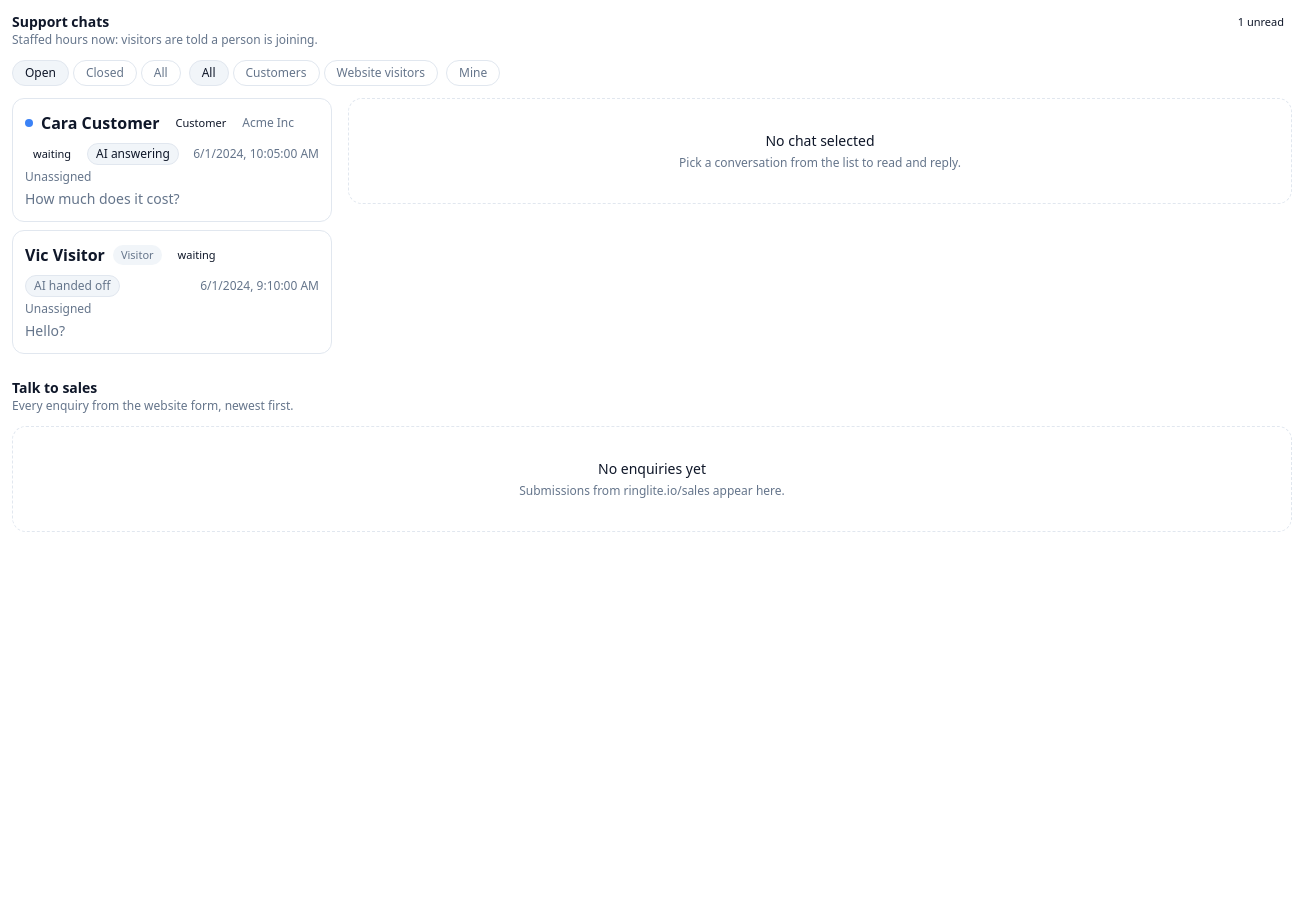
Test: WebsiteTab support inbox › shows the customer card with plan and balance
The image size is (1304, 912).
Click the button "Cara Customer" at (172, 160), box [12,98,332,222]
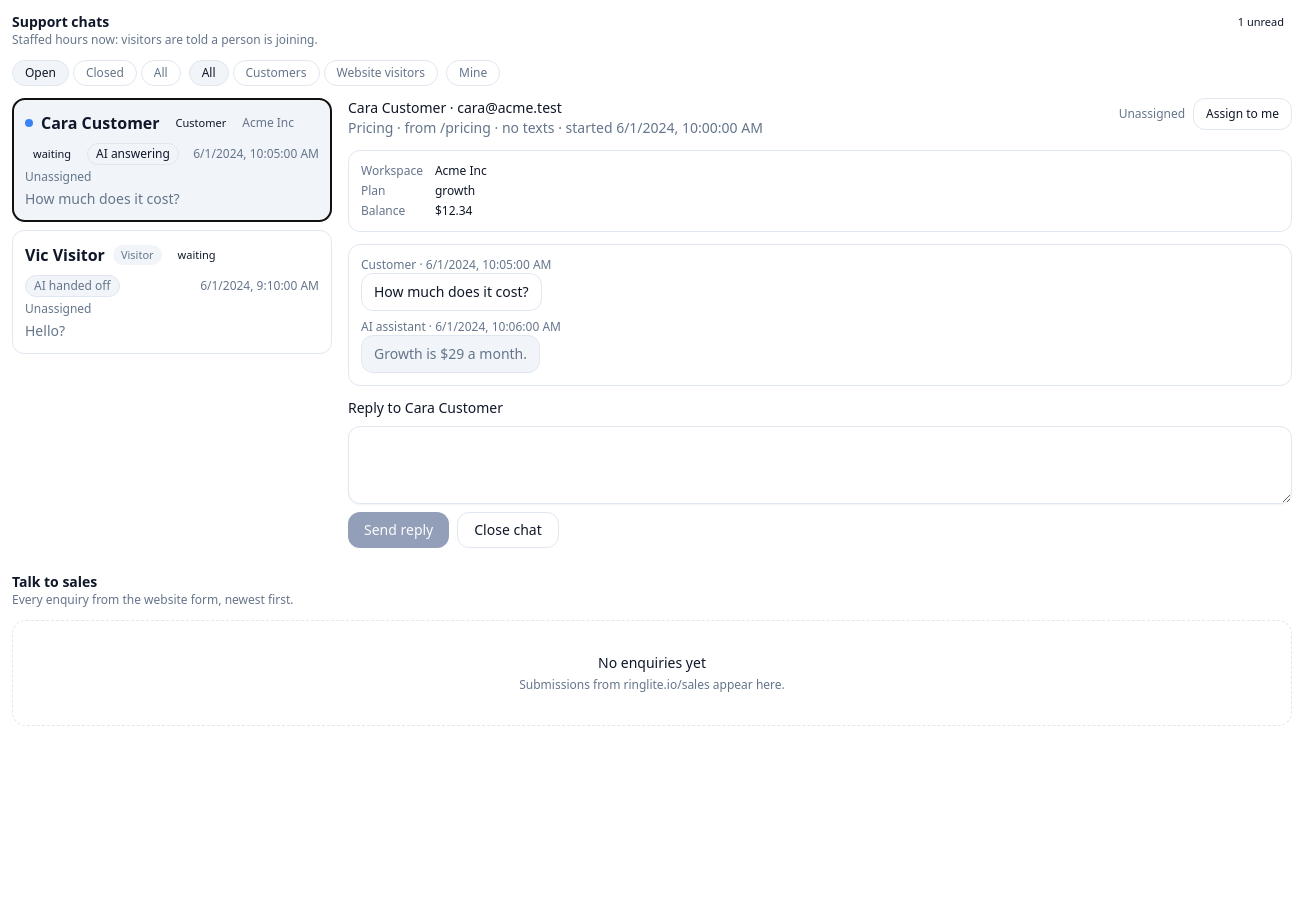
Now the text "growth" is shown, box [435,182,475,199]
Now the text "$12.34" is shown, box [435,202,472,219]
